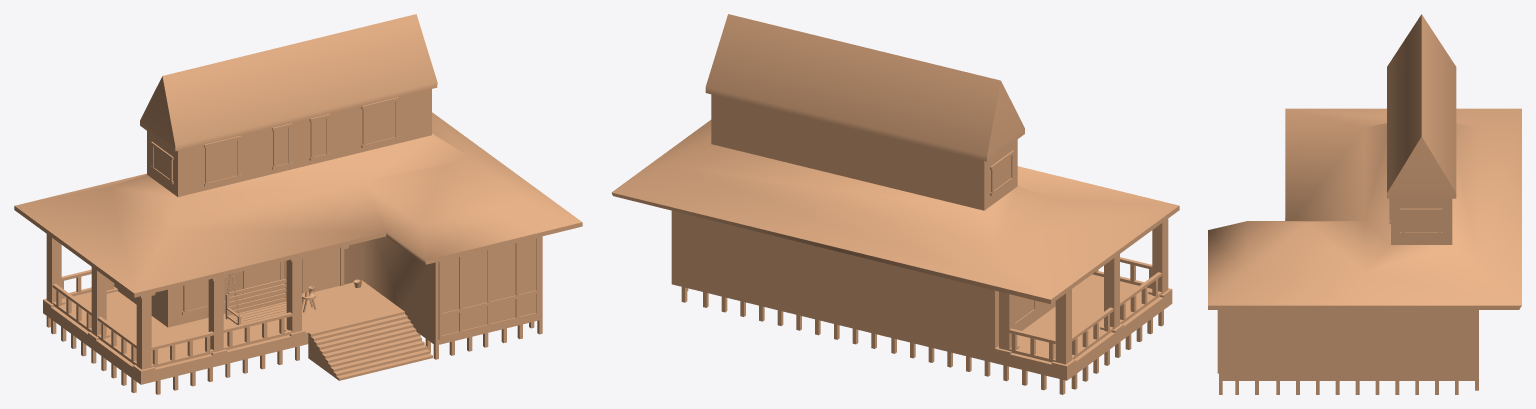
The model's file is Marsh's HouseFBX.FBX.
3 renders of one model, left to right at view 1: azimuth 30°, elevation 25°; view 2: azimuth 150°, elevation 25°; view 3: azimuth 270°, elevation 25°, orthographic. The views are drawn at different scales.
Visible parts, largest first — view 1: House; view 2: House; view 3: House.
Part boxes in pixels (x1,y1,x2,y2): House: (14,14,582,394); House: (611,14,1179,394); House: (1208,14,1521,394).
Bounding box in the file's own units: 610 × 357 × 410.
